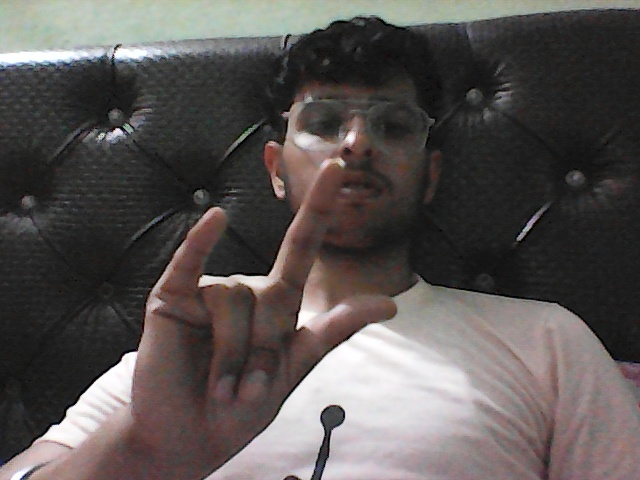iloveyou: (116, 148, 403, 480)
